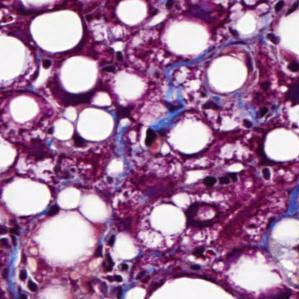inflammation: (0, 219, 44, 299), (240, 53, 299, 109), (114, 97, 162, 151), (89, 234, 133, 286), (134, 122, 173, 154), (199, 167, 240, 194)
